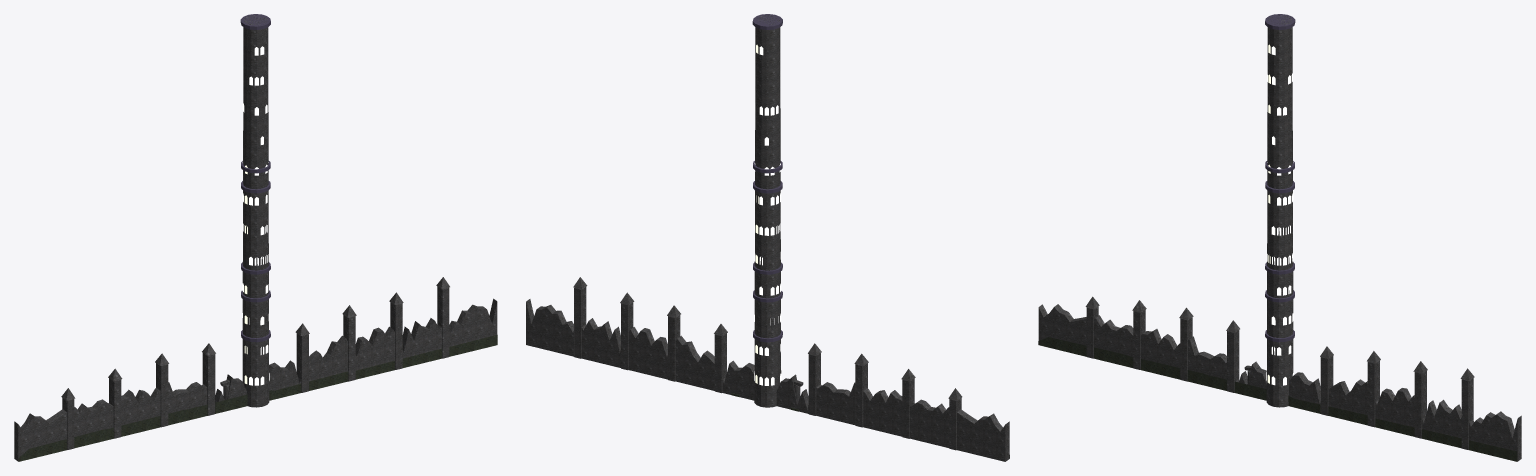
The model's file is buildings.glb.
3 renders of one model, left to right at view 1: azimuth 30°, elevation 25°; view 2: azimuth 150°, elevation 25°; view 3: azimuth 330°, elevation 25°, orthographic.
Visible parts, largest first — view 1: RuinWallMesh, TowerBody70Mesh, TowerBody40Mesh; view 2: RuinWallMesh, TowerBody70Mesh, TowerBody40Mesh; view 3: RuinWallMesh, TowerBody70Mesh, TowerBody40Mesh.
Boxes of the visible parts, x1,y1,x2,y2 form: RuinWallMesh: (14, 277, 497, 461); TowerBody70Mesh: (240, 14, 270, 407); TowerBody40Mesh: (241, 181, 270, 385); RuinWallMesh: (526, 277, 1009, 461); TowerBody70Mesh: (752, 14, 782, 407); TowerBody40Mesh: (753, 181, 782, 385); RuinWallMesh: (1038, 296, 1521, 461); TowerBody70Mesh: (1265, 14, 1295, 407); TowerBody40Mesh: (1265, 181, 1294, 385).
Size of the model in its own units: 92 by 70 by 5.06.
Materials: 5 (3 with a texture image).
